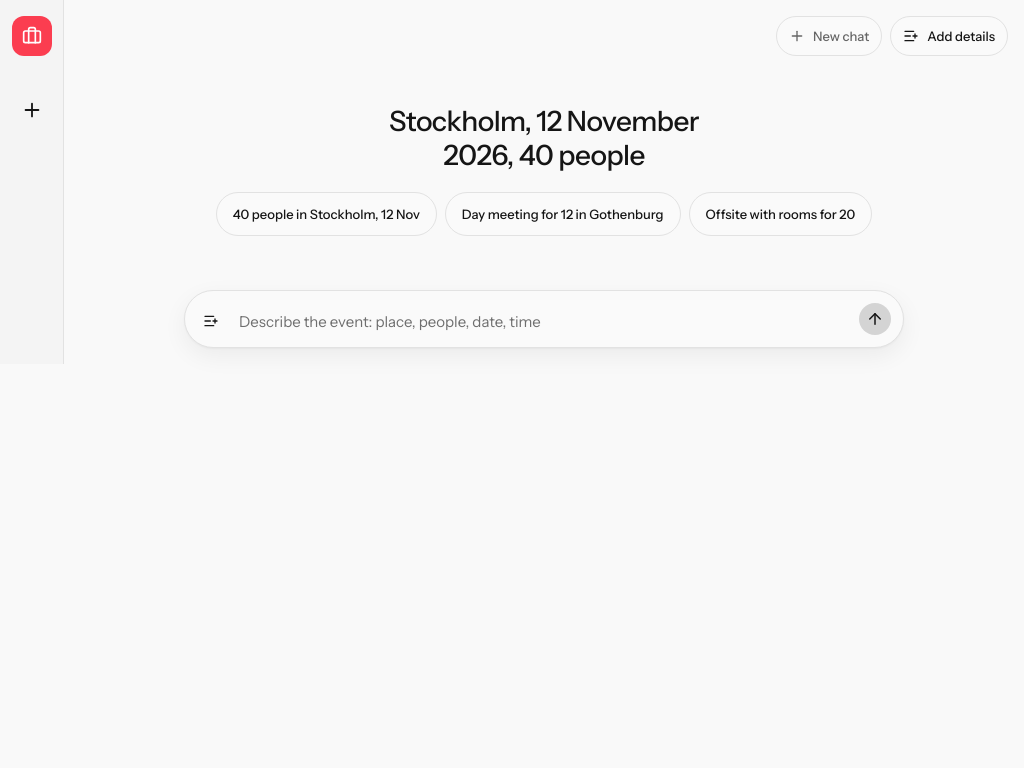
Test: header and composer › uses one details name on the header, the composer, and the drawer
The width and height of the screenshot is (1024, 768).
Step 1. Click the button "Add details" → (949, 36), box [890,16,1008,56]
(page scrolled)
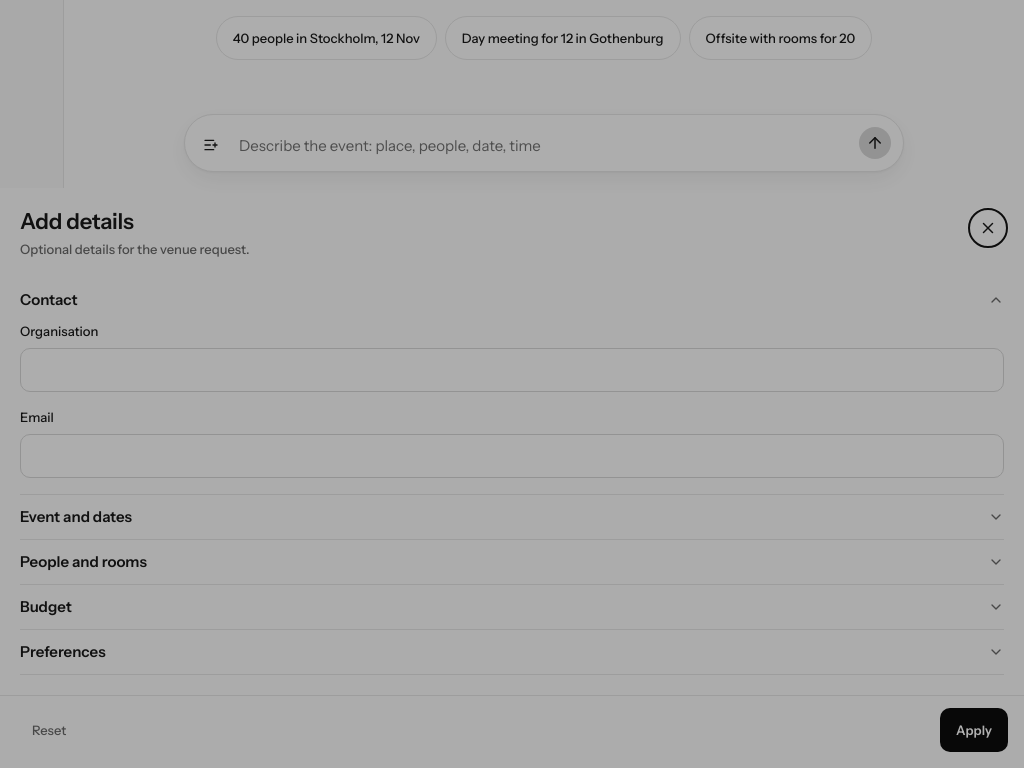
Expected: the dialog "Add details" is shown
